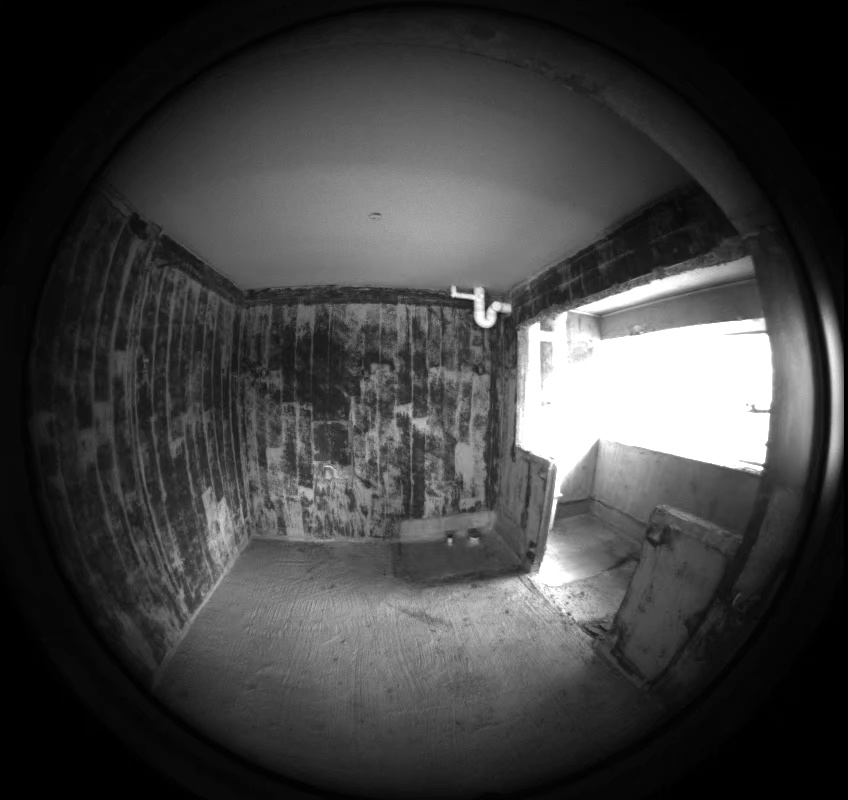Ceiling: (106, 15, 687, 290)
Floor: (108, 124, 640, 637), (156, 306, 665, 795)
Pipe: (61, 43, 511, 327)
Tools: (127, 71, 520, 581)
Wall: (30, 185, 704, 670), (129, 176, 741, 681), (197, 93, 759, 532), (61, 125, 556, 571)
